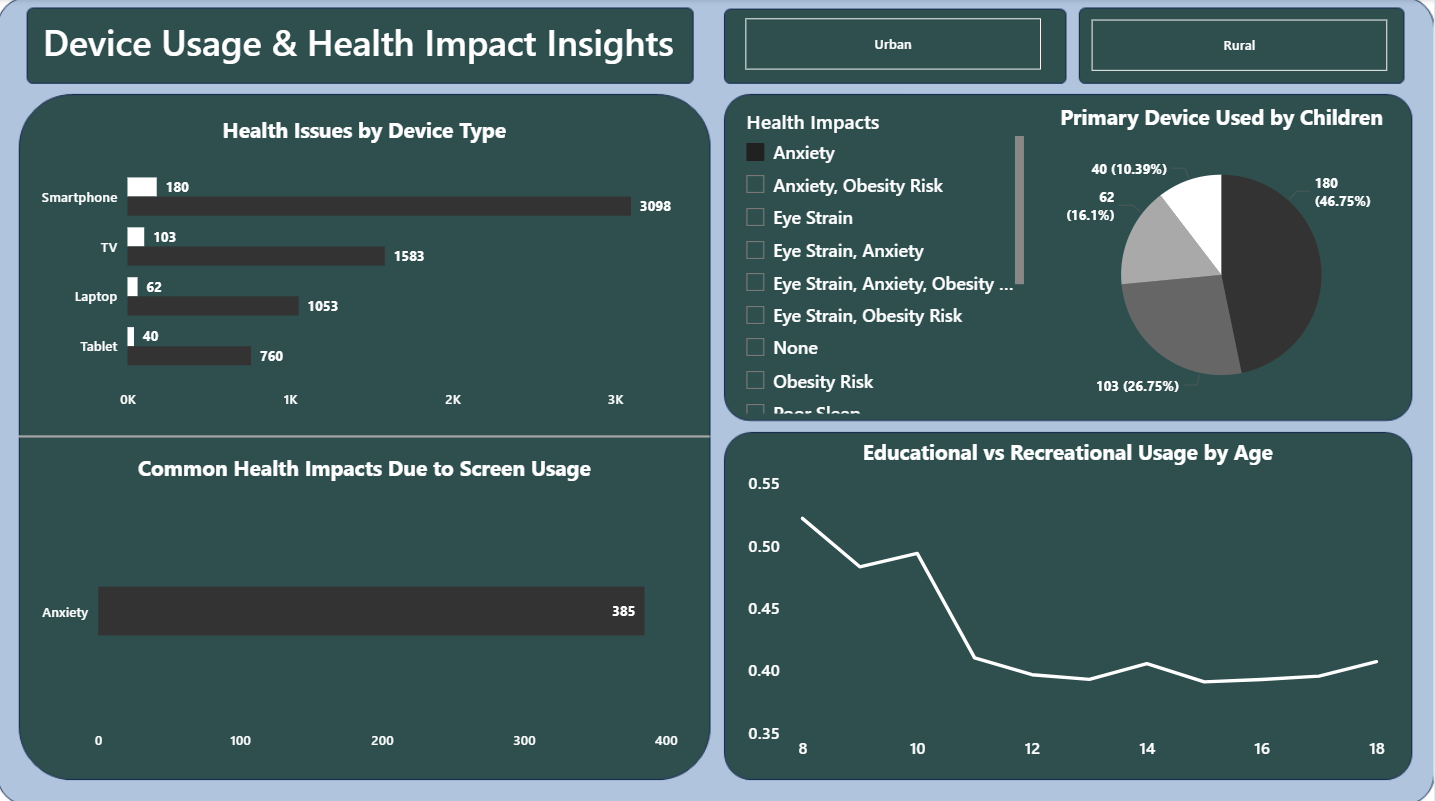

Layout of this report page (visuals, bound fields, positions):
{"tool":"powerbi","page":{"name":" Device & Health Impact Insights","canvas":[1280,720],"ordinal":1},"visuals":[{"type":"pieChart","title":" Primary Device Used by Children","fields":{"Category":["Table.Primary_Device"],"Y":["Table.Total_Children"]},"box":[919.9,92.8,342.1,282.2],"z":0},{"type":"barChart","title":"Common Health Impacts Due to Screen Usage","fields":{"Category":["Table.Health_Impacts"],"Y":["Table.Total_Children"]},"box":[33,405.6,587.6,273.6],"z":1000},{"type":"clusteredBarChart","title":"Health Issues by Device Type","fields":{"Category":["Table.Primary_Device"],"Y":["CountNonNull(Table.Health_Impacts)","Table.Children_With_Health_Issues"]},"box":[33,103.8,587.6,271.2],"z":2000},{"type":"lineChart","title":"Educational vs Recreational Usage by Age","fields":{"Y":["Table.Avg_Edu_Recreational_Ratio"],"Category":["Table.Age"]},"box":[663.3,390.9,580.3,296.9],"z":3000},{"type":"slicer","fields":{"Values":["Table.Urban_or_Rural"]},"box":[640.1,9.8,314,59.9],"z":4000},{"type":"slicer","fields":{"Values":["Table.Health_Impacts"]},"box":[654.8,92.8,265.1,282.2],"z":5000},{"type":"slicer","fields":{"Values":["Table.Urban_or_Rural"]},"box":[948,11,314,59.9],"z":6000},{"type":"textbox","box":[32.6,10.9,579.1,59.1],"z":7000}]}

Visuals, with their boxes in screenshot pixels (x1, y1, x2, y2), scaled from the page's 1280x720 canvas onto the 1435x801 screenshot:
" Primary Device Used by Children" pieChart: crop(1031, 103, 1415, 417)
"Common Health Impacts Due to Screen Usage" barChart: crop(37, 451, 696, 756)
"Health Issues by Device Type" clusteredBarChart: crop(37, 115, 696, 417)
"Educational vs Recreational Usage by Age" lineChart: crop(744, 435, 1394, 765)
slicer - Table.Urban_or_Rural: crop(718, 11, 1070, 78)
slicer - Table.Health_Impacts: crop(734, 103, 1031, 417)
slicer - Table.Urban_or_Rural: crop(1063, 12, 1415, 79)
textbox: crop(37, 12, 686, 78)
